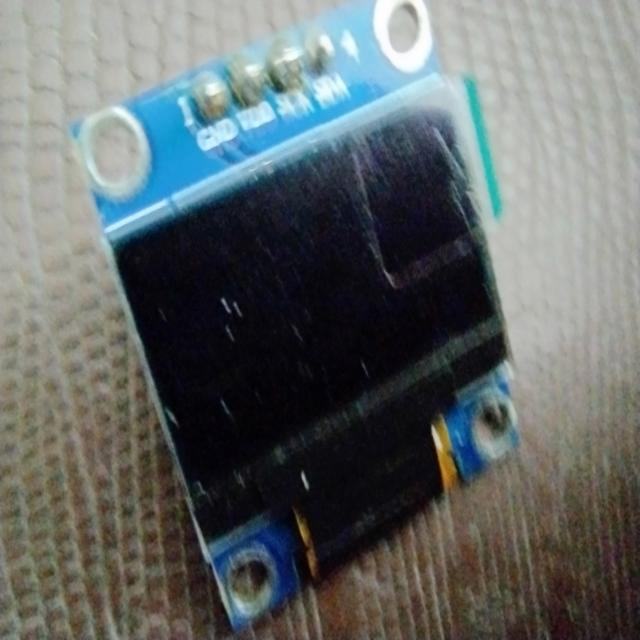oled: (51, 0, 536, 632)
